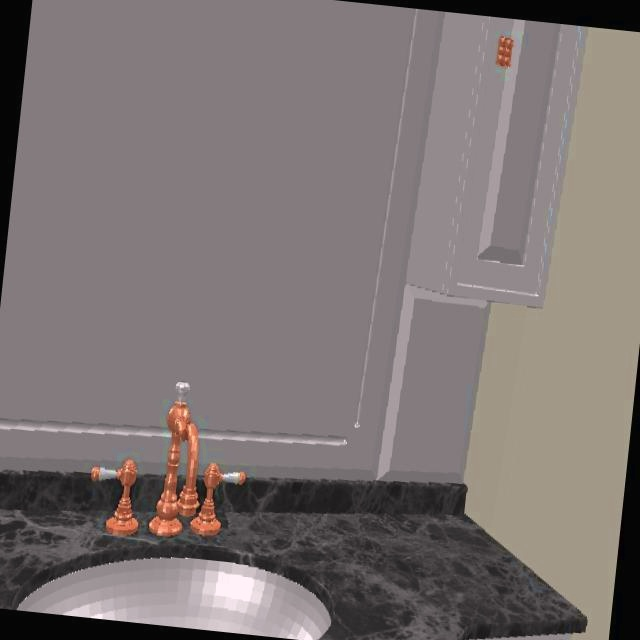washbasin: (15, 558, 331, 640)
